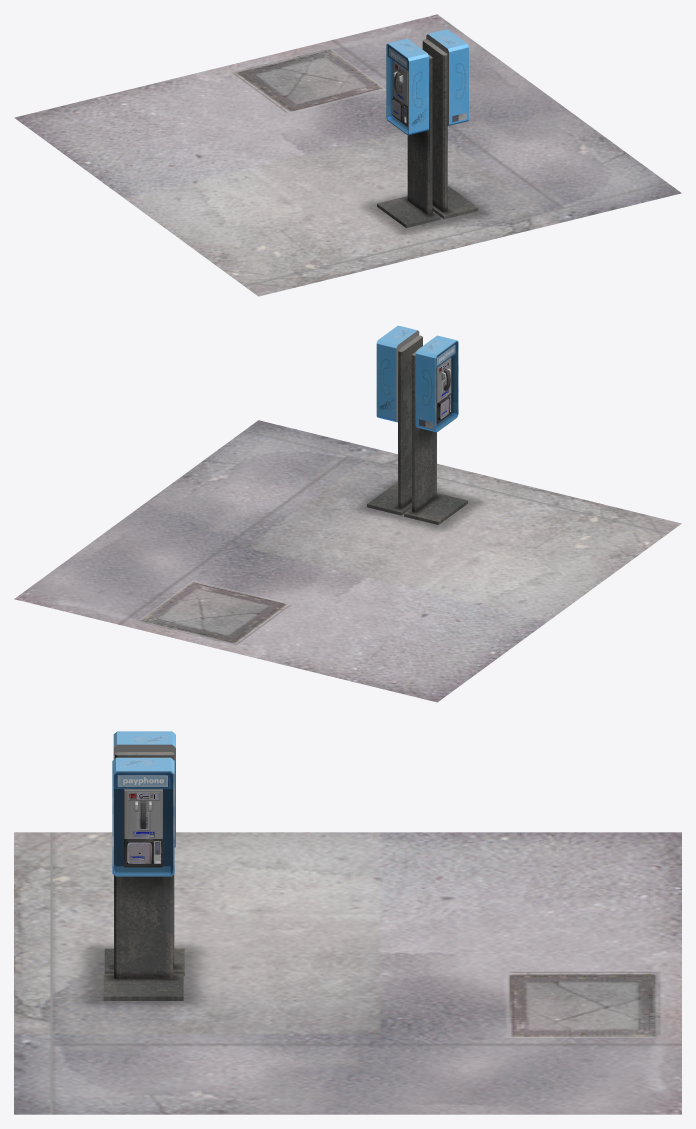
The model's file is Small Phonebox.fbx.
The picture shows the model from 3 angles, top to bottom: view 1: azimuth 30°, elevation 25°; view 2: azimuth 150°, elevation 25°; view 3: azimuth 270°, elevation 25°; orthographic projection. The views are drawn at different scales.
Parts seen in each view (by area): view 1: phonebox; view 2: phonebox; view 3: phonebox.
Boxes of the visible parts, bbox=[...] form: phonebox: bbox=[14, 14, 681, 296]; phonebox: bbox=[14, 325, 681, 702]; phonebox: bbox=[14, 731, 681, 1114].
Size of the model in its own units: 5 by 1.86 by 5.
Materials: 1 (1 with a texture image).
